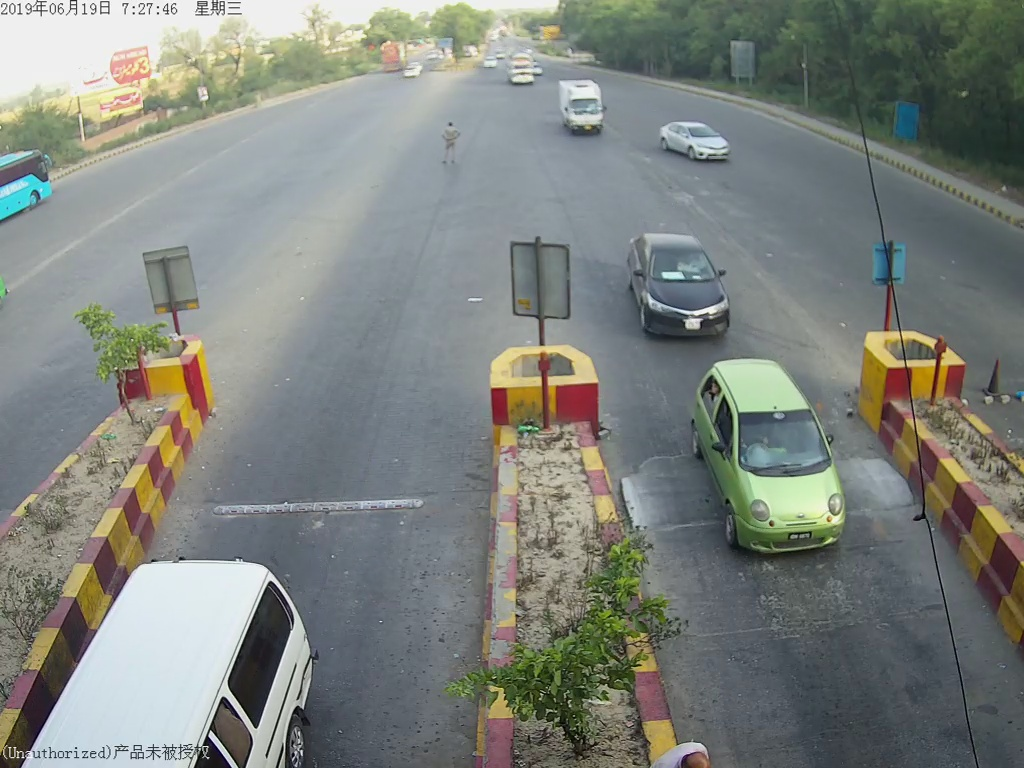Cat-1: (691, 357, 857, 564), (621, 226, 740, 343)
Cat-4: (555, 74, 610, 143)
